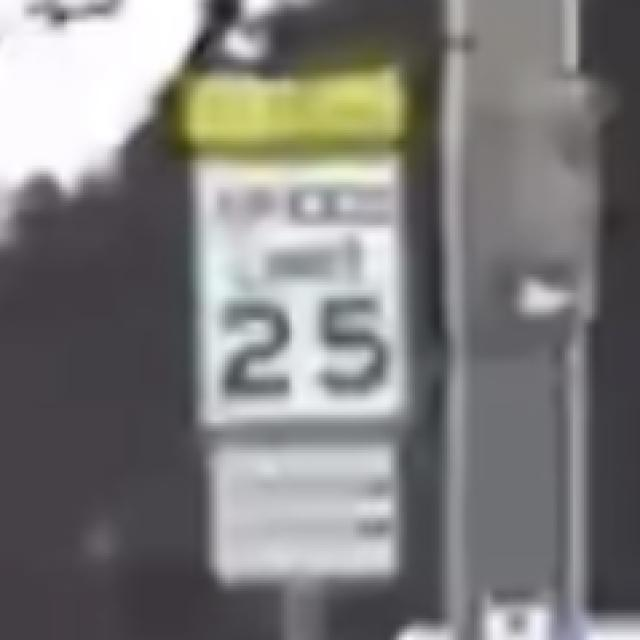speedLimit25: (185, 150, 412, 427)
